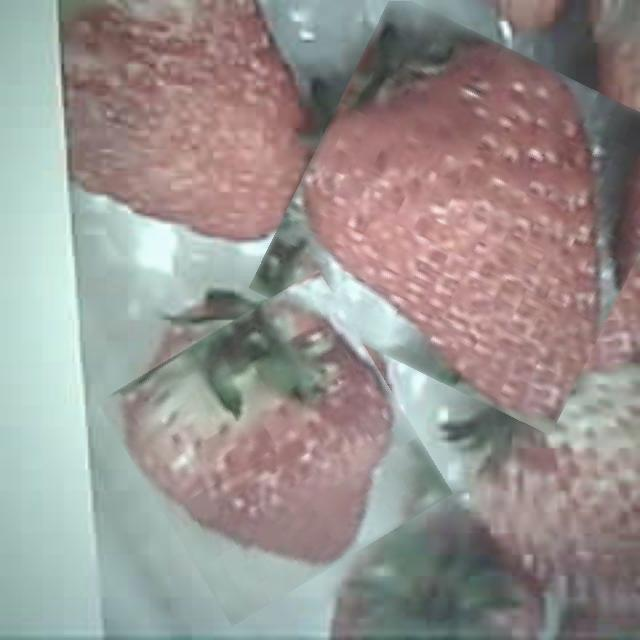strawberry: (277, 20, 640, 407), (121, 293, 428, 603)
